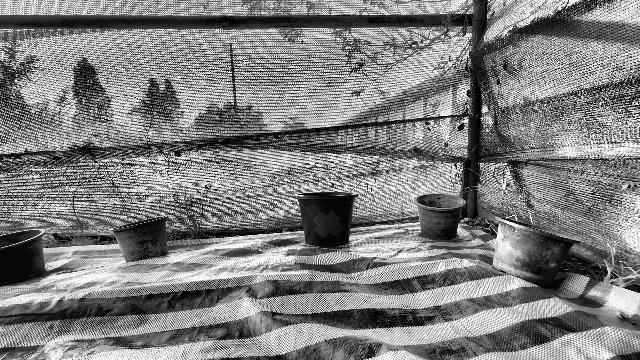pot: (491, 215, 580, 288), (293, 190, 358, 246), (107, 216, 169, 261), (0, 228, 46, 288), (413, 194, 467, 240)
